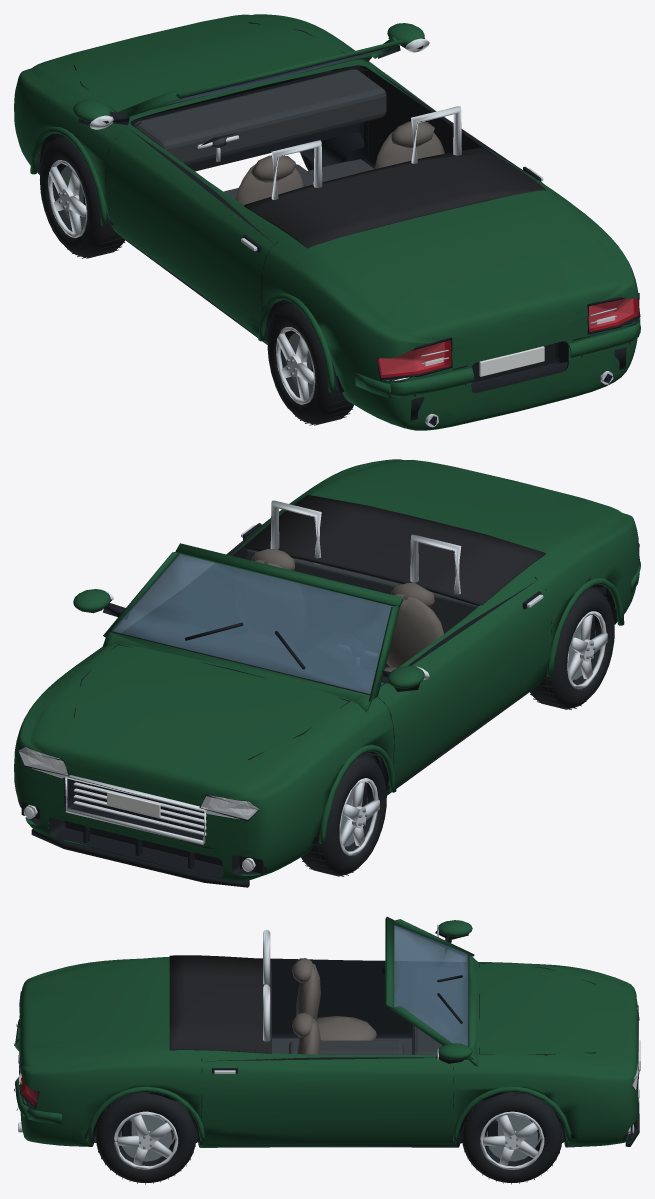
The model's file is car_spyder.glb.
The picture shows the model from 3 angles, top to bottom: view 1: azimuth 30°, elevation 25°; view 2: azimuth 150°, elevation 25°; view 3: azimuth 270°, elevation 25°; orthographic projection. The views are drawn at different scales.
Visible parts, largest first — view 1: Original convertible_roadster fourteen-section body shell, Folded soft-top fabric boot cover, Center console, Aerodynamic mirror painted cap, Cast swept alloy spoke, Continuous circumferential tread rib, Aerodynamic mirror lower housing, Contoured seat back, Flush corner wrapping ruby lamp lens, Front license plate, Raked transparent windscreen, Deep wheel barrel inner lip; view 2: Original convertible_roadster fourteen-section body shell, Raked transparent windscreen, Folded soft-top fabric boot cover, Aerodynamic mirror painted cap, Cast swept alloy spoke, Aerodynamic mirror lower housing, Continuous circumferential tread rib, Contoured seat back, Center console, Clear reversing lens insert, Front license plate; view 3: Original convertible_roadster fourteen-section body shell, Continuous circumferential tread rib, Folded soft-top fabric boot cover, Raked transparent windscreen, Aerodynamic mirror painted cap, Cast swept alloy spoke, Contoured seat back, Aerodynamic mirror lower housing, Center console, Deep wheel barrel inner lip.
Boxes of the visible parts, left/top/right/bottom form: Original convertible_roadster fourteen-section body shell: left=14, top=14, right=639, bottom=430; Folded soft-top fabric boot cover: left=244, top=147, right=545, bottom=248; Center console: left=133, top=69, right=386, bottom=199; Aerodynamic mirror painted cap: left=30, top=23, right=640, bottom=398; Cast swept alloy spoke: left=48, top=38, right=633, bottom=427; Continuous circumferential tread rib: left=40, top=136, right=353, bottom=425; Aerodynamic mirror lower housing: left=21, top=22, right=640, bottom=425; Contoured seat back: left=235, top=121, right=444, bottom=204; Flush corner wrapping ruby lamp lens: left=378, top=298, right=638, bottom=377; Front license plate: left=479, top=346, right=544, bottom=376; Raked transparent windscreen: left=166, top=46, right=394, bottom=104; Deep wheel barrel inner lip: left=59, top=166, right=313, bottom=394; Original convertible_roadster fourteen-section body shell: left=14, top=459, right=638, bottom=881; Raked transparent windscreen: left=111, top=554, right=393, bottom=693; Folded soft-top fabric boot cover: left=245, top=495, right=545, bottom=605; Aerodynamic mirror painted cap: left=73, top=543, right=640, bottom=843; Cast swept alloy spoke: left=26, top=500, right=607, bottom=870; Aerodynamic mirror lower housing: left=17, top=523, right=640, bottom=887; Continuous circumferential tread rib: left=301, top=587, right=614, bottom=876; Contoured seat back: left=252, top=549, right=443, bottom=671; Center console: left=246, top=549, right=478, bottom=765; Clear reversing lens insert: left=18, top=747, right=258, bottom=871; Front license plate: left=107, top=791, right=160, bottom=817; Original convertible_roadster fourteen-section body shell: left=19, top=956, right=638, bottom=1147; Continuous circumferential tread rib: left=96, top=1092, right=562, bottom=1184; Folded soft-top fabric boot cover: left=169, top=955, right=271, bottom=1053; Raked transparent windscreen: left=394, top=924, right=468, bottom=1045; Aerodynamic mirror painted cap: left=15, top=916, right=571, bottom=1141; Cast swept alloy spoke: left=18, top=925, right=639, bottom=1169; Contoured seat back: left=291, top=958, right=376, bottom=1054; Aerodynamic mirror lower housing: left=14, top=930, right=639, bottom=1146; Center console: left=196, top=1024, right=442, bottom=1132; Deep wheel barrel inner lip: left=118, top=1114, right=540, bottom=1161.
Bounding box in the file's own units: 2.21 × 1.3 × 4.35.
